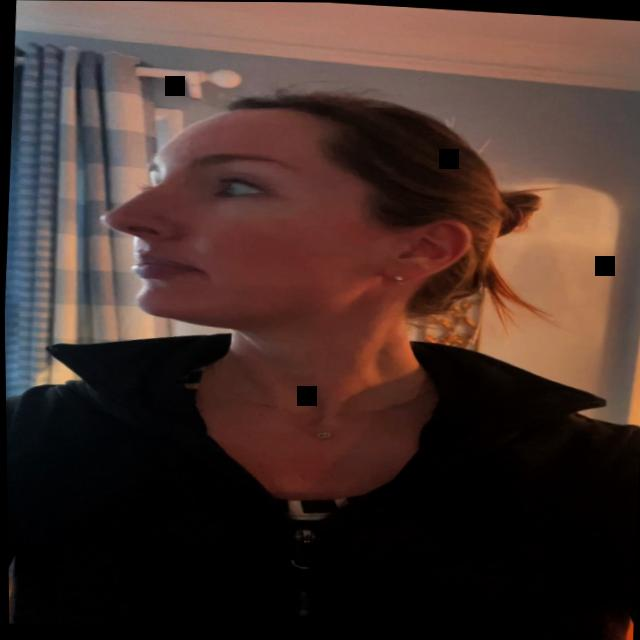NO-Mask: (109, 91, 506, 379)
